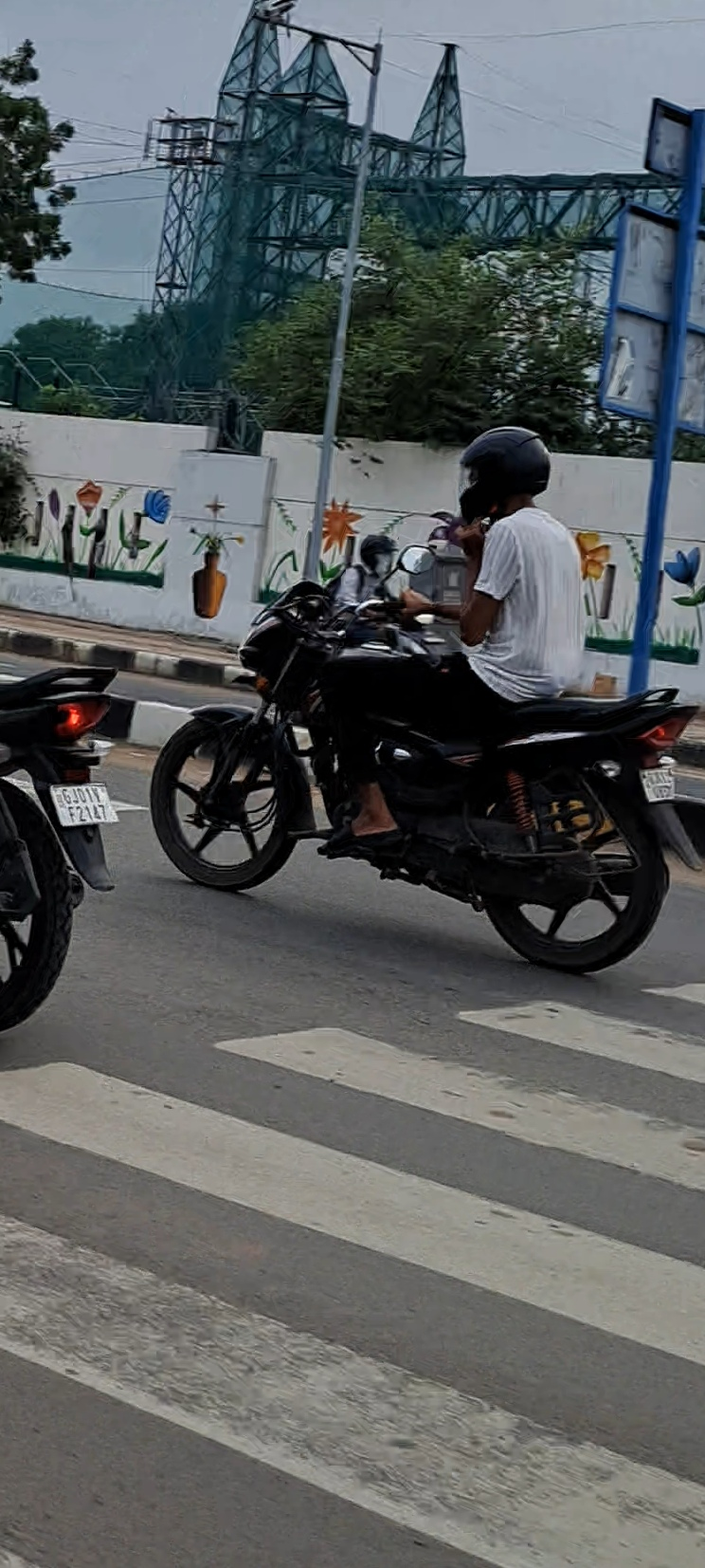BikeWithRider: (132, 402, 705, 987)
Helmet: (445, 415, 560, 531)
